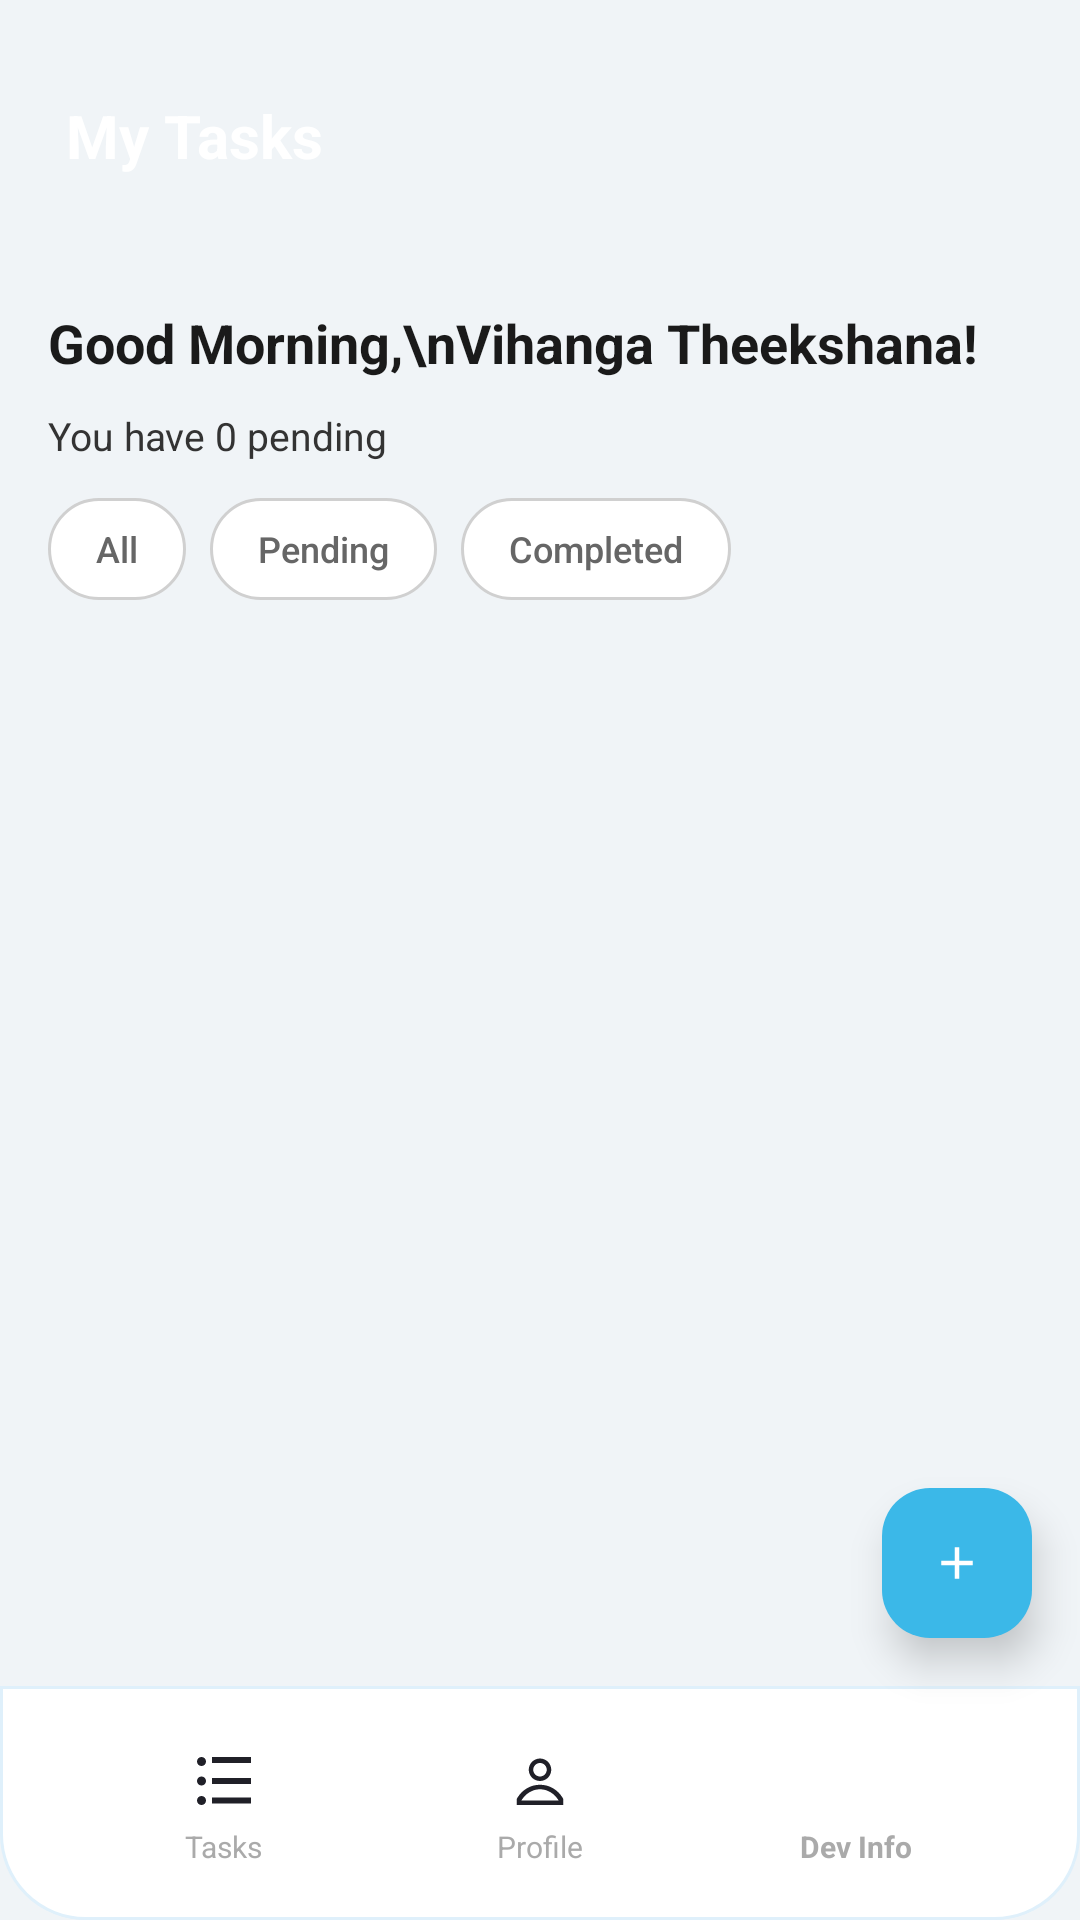

Screen size 1080w x 1920h. Icon name, then its box in pixels as (x1, y1, x2, y2):
Add New Task: (882, 1488, 1032, 1638)
